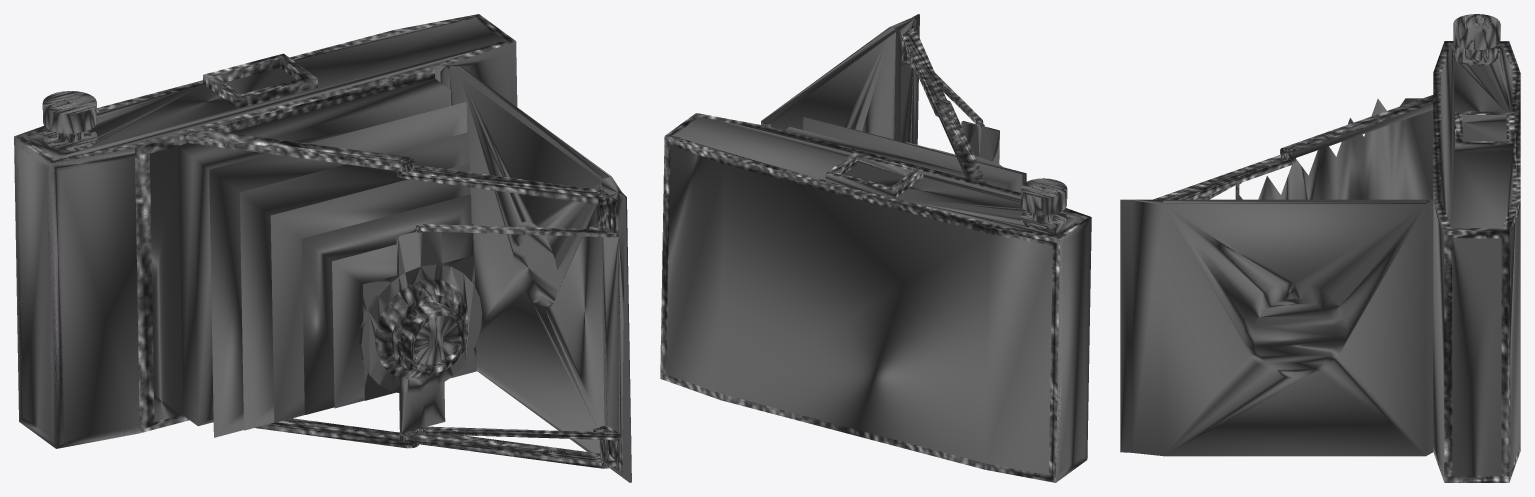
Rendered from model_align.obj.
The picture shows the model from 3 angles, left to right: view 1: azimuth 30°, elevation 25°; view 2: azimuth 150°, elevation 25°; view 3: azimuth 270°, elevation 25°; orthographic projection. The views are drawn at different scales.
Bounding box in the file's own units: 0.1727 × 0.1149 × 0.1461.
